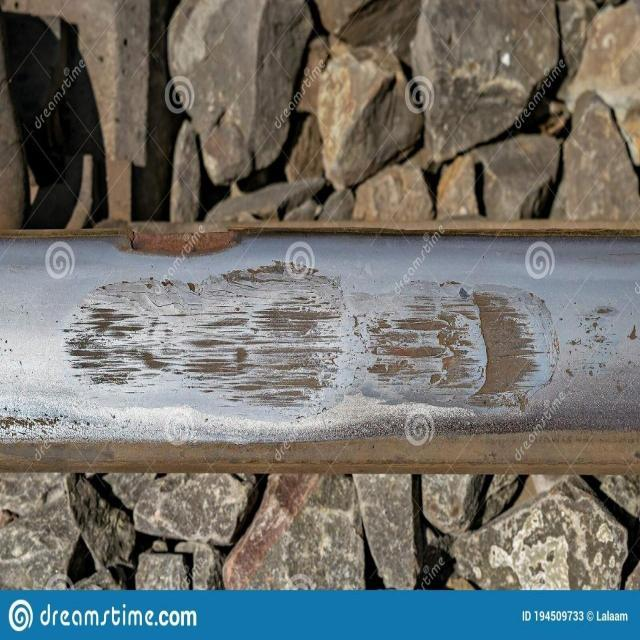broken_rail_medium: (565, 304, 623, 400), (122, 228, 238, 258), (0, 410, 91, 436), (628, 320, 640, 338)
head_checks_high: (59, 231, 562, 441)
